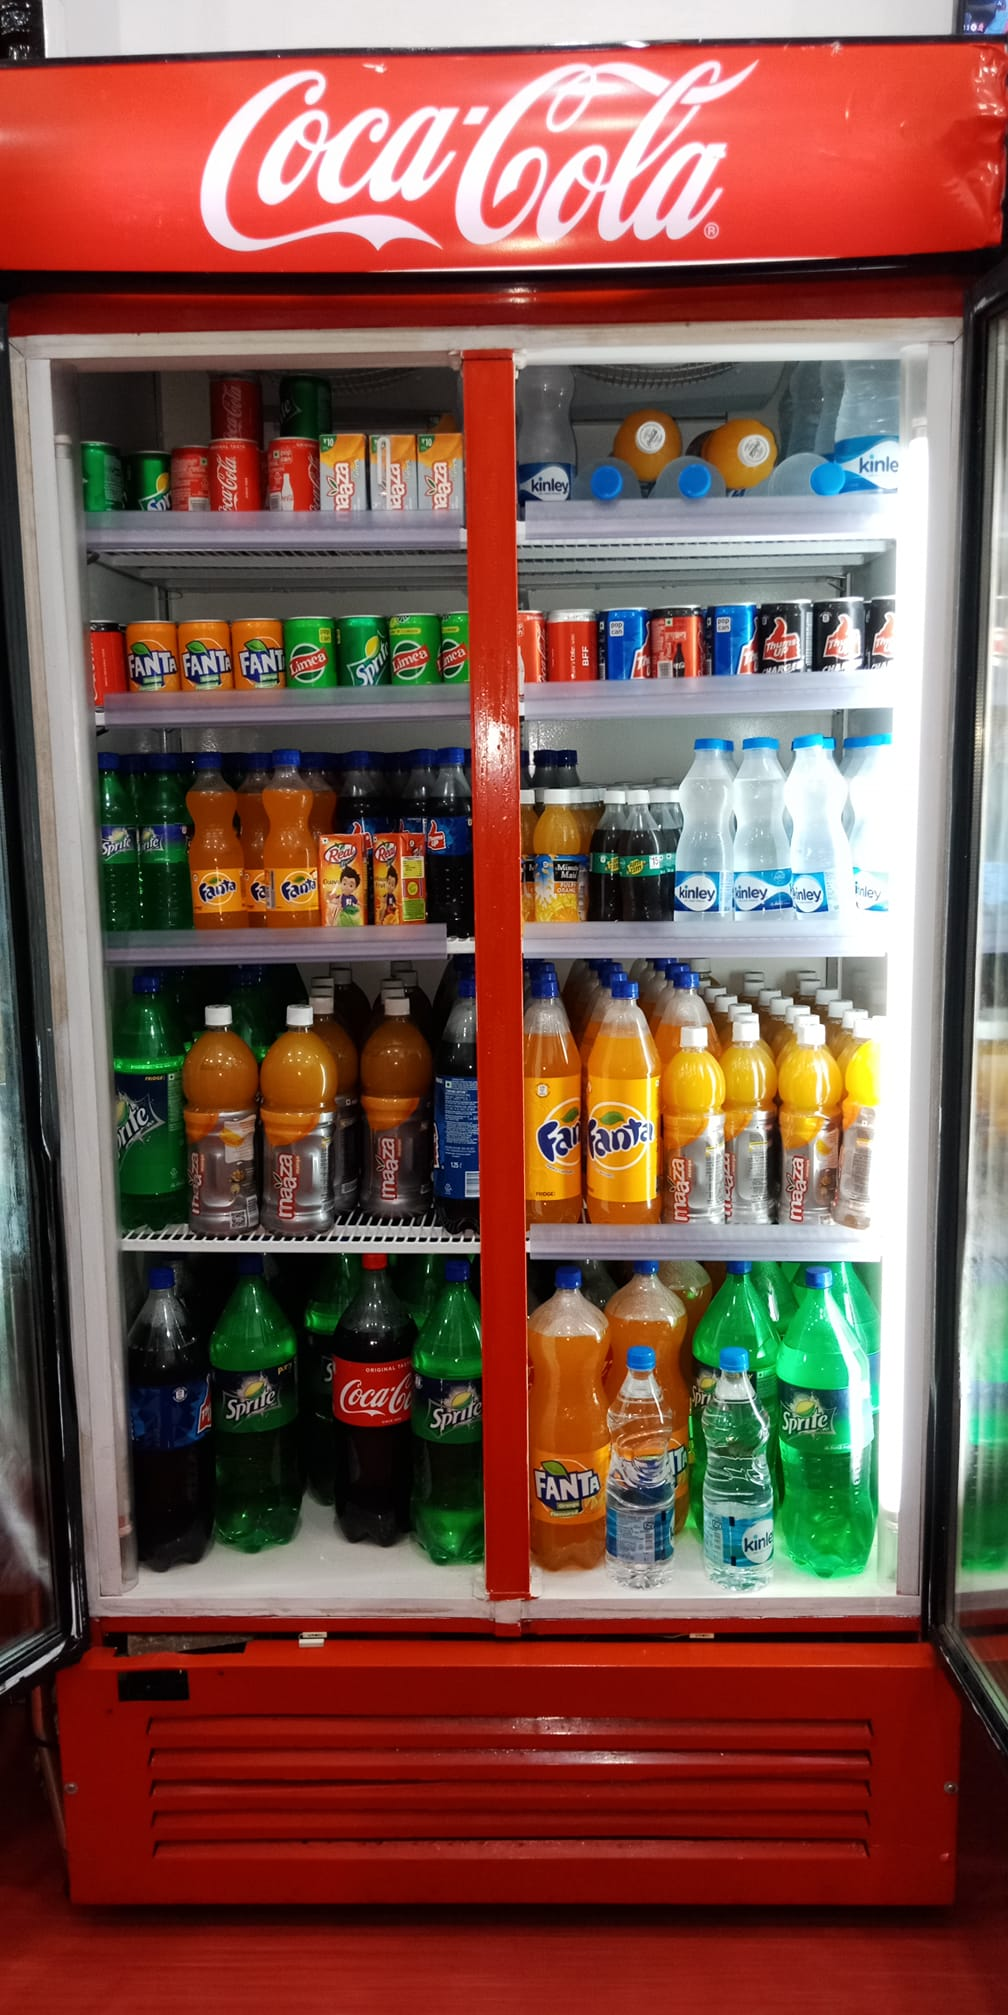cocacola: (186, 60, 771, 254), (210, 454, 242, 511), (219, 380, 242, 439)
fanta: (586, 1115, 653, 1160), (532, 1468, 602, 1504), (123, 646, 175, 679), (181, 649, 233, 679), (198, 878, 235, 902), (282, 876, 318, 901)
kinley: (678, 883, 716, 903), (528, 477, 570, 493), (733, 883, 768, 901)
limca: (285, 652, 328, 677), (391, 649, 429, 673)
maaza: (269, 1150, 298, 1222), (377, 1130, 400, 1205), (327, 460, 354, 520), (789, 1150, 807, 1223), (671, 1155, 690, 1221), (186, 1151, 203, 1214)
minutemaid: (554, 861, 579, 882)
real: (328, 843, 357, 865), (374, 842, 399, 861)
sprite: (429, 1399, 482, 1437), (226, 1389, 276, 1423), (780, 1408, 831, 1435), (100, 837, 132, 858)
thumsup: (822, 616, 860, 661), (762, 618, 798, 661), (424, 819, 447, 851)
